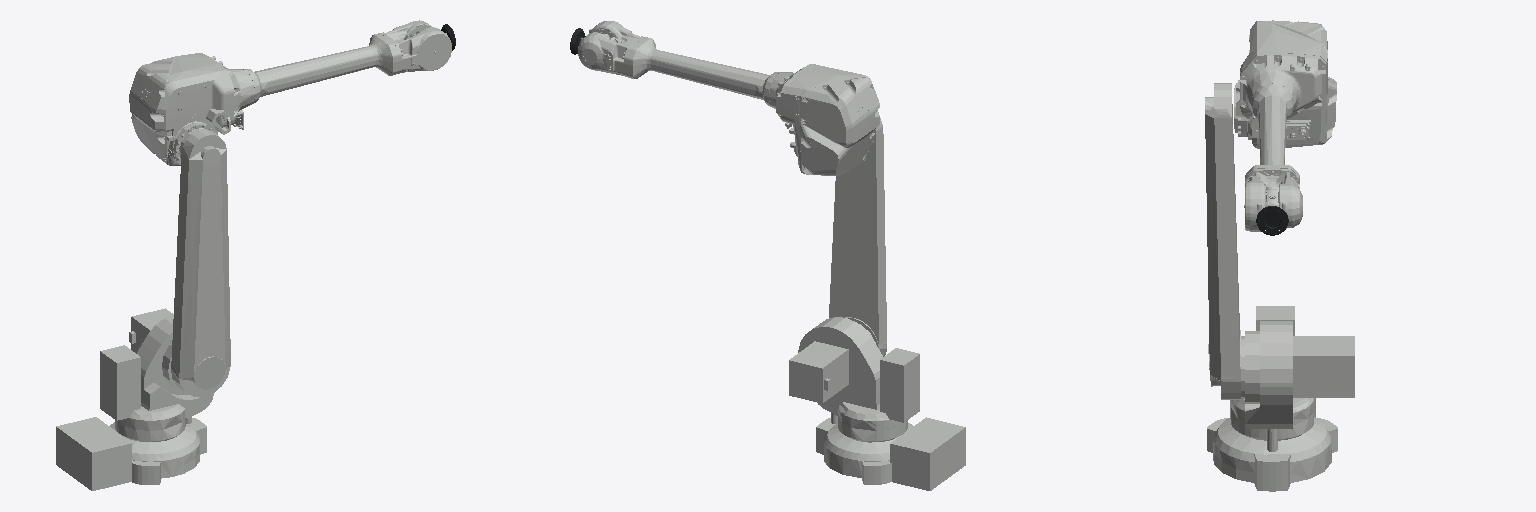
robot.urdf — abb_irb4600_40_255:
<?xml version="1.0" encoding="utf-8"?>
<robot xmlns:xacro="http://wiki.ros.org/xacro" name="abb_irb4600_40_255">
  <link name="base_link">
    <visual>
      <geometry>
        <mesh filename="package://abb_irb4600_40_255/meshes/visual/base_link.stl"/>
      </geometry>
      <material name="Material">
        <color rgba="0.772549 0.7803922 0.7686275 1.0"/>
      </material>
    </visual>
    <collision>
      <geometry>
        <mesh filename="package://abb_irb4600_40_255/meshes/collision/base_link.stl"/>
      </geometry>
    </collision>
    <inertial>
      <origin xyz="0.0 0.0 0.0" rpy="0.0 0.0 0.0"/>
      <mass value="120.0"/>
      <inertia ixx="-4.98" ixy="-0.0" ixz="2.7" iyy="-5.952" iyz="-0.0" izz="0.828"/>
    </inertial>
  </link>
  <link name="link_1">
    <visual>
      <geometry>
        <mesh filename="package://abb_irb4600_40_255/meshes/visual/link_1.stl"/>
      </geometry>
      <material name="Material">
        <color rgba="0.772549 0.7803922 0.7686275 1.0"/>
      </material>
    </visual>
    <collision>
      <geometry>
        <mesh filename="package://abb_irb4600_40_255/meshes/collision/link_1.stl"/>
      </geometry>
    </collision>
    <inertial>
      <origin xyz="0.18 0.0 0.5" rpy="0.0 0.0 0.0"/>
      <mass value="120.0"/>
      <inertia ixx="-4.98" ixy="-0.0" ixz="2.7" iyy="-5.952" iyz="-0.0" izz="0.828"/>
    </inertial>
  </link>
  <link name="link_2">
    <visual>
      <geometry>
        <mesh filename="package://abb_irb4600_40_255/meshes/visual/link_2.stl"/>
      </geometry>
      <material name="Material">
        <color rgba="0.772549 0.7803922 0.7686275 1.0"/>
      </material>
    </visual>
    <collision>
      <geometry>
        <mesh filename="package://abb_irb4600_40_255/meshes/collision/link_2.stl"/>
      </geometry>
    </collision>
    <inertial>
      <origin xyz="0.94 0.08 -0.34" rpy="0.0 0.0 0.0"/>
      <mass value="120.0"/>
      <inertia ixx="-2.96" ixy="2.256" ixz="-9.588" iyy="-18.72601" iyz="-0.816" izz="-14.95"/>
    </inertial>
  </link>
  <link name="link_3">
    <visual>
      <geometry>
        <mesh filename="package://abb_irb4600_40_255/meshes/visual/link_3.stl"/>
      </geometry>
      <material name="Material">
        <color rgba="0.772549 0.7803922 0.7686275 1.0"/>
      </material>
    </visual>
    <collision>
      <geometry>
        <mesh filename="package://abb_irb4600_40_255/meshes/collision/link_3.stl"/>
      </geometry>
    </collision>
    <inertial>
      <origin xyz="0.07 -0.266 0.088" rpy="0.0 0.0 0.0"/>
      <mass value="120.0"/>
      <inertia ixx="1.345" ixy="-0.5586" ixz="0.1848" iyy="4.65068" iyz="-0.70224" izz="2.76032"/>
    </inertial>
  </link>
  <link name="link_4">
    <visual>
      <geometry>
        <mesh filename="package://abb_irb4600_40_255/meshes/visual/link_4.stl"/>
      </geometry>
      <material name="Material">
        <color rgba="0.772549 0.7803922 0.7686275 1.0"/>
      </material>
    </visual>
    <collision>
      <geometry>
        <mesh filename="package://abb_irb4600_40_255/meshes/collision/link_4.stl"/>
      </geometry>
    </collision>
    <inertial>
      <origin xyz="0.0 0.0 1.0" rpy="0.0 0.0 0.0"/>
      <mass value="40.0"/>
      <inertia ixx="-8.0" ixy="-0.0" ixz="-0.0" iyy="-8.0" iyz="-0.0" izz="0.482"/>
    </inertial>
  </link>
  <link name="link_5">
    <visual>
      <geometry>
        <mesh filename="package://abb_irb4600_40_255/meshes/visual/link_5.stl"/>
      </geometry>
      <material name="Material">
        <color rgba="0.772549 0.7803922 0.7686275 1.0"/>
      </material>
    </visual>
    <collision>
      <geometry>
        <mesh filename="package://abb_irb4600_40_255/meshes/collision/link_5.stl"/>
      </geometry>
    </collision>
    <inertial>
      <origin xyz="0.14 0.0 0.0" rpy="0.0 0.0 0.0"/>
      <mass value="10.0"/>
      <inertia ixx="0.04" ixy="-0.0" ixz="-0.0" iyy="-0.009" iyz="-0.0" izz="-0.004"/>
    </inertial>
  </link>
  <link name="link_6">
    <visual>
      <geometry>
        <mesh filename="package://abb_irb4600_40_255/meshes/visual/link_6.stl"/>
      </geometry>
      <material name="Material">
        <color rgba="0.1882353 0.1960784 0.2039216 1.0"/>
      </material>
    </visual>
    <collision>
      <geometry>
        <mesh filename="package://abb_irb4600_40_255/meshes/collision/link_6.stl"/>
      </geometry>
    </collision>
    <inertial>
      <origin xyz="0.081 -0.091 0.332" rpy="0.0 0.0 0.0"/>
      <mass value="5.0"/>
      <inertia ixx="-0.29652" ixy="-0.03686" ixz="0.09396" iyy="-0.28792" iyz="-0.10556" izz="-0.04621"/>
    </inertial>
  </link>
  <link name="tool0"/>
  <link name="base"/>
  <joint name="joint_1" type="revolute">
    <parent link="base_link"/>
    <child link="link_1"/>
    <axis xyz="0.0 0.0 1.0"/>
    <dynamics damping="0.2" friction="0.0"/>
    <limit lower="-3.14159" upper="3.14159" effort="100000.0" velocity="2.618"/>
    <origin xyz="0.0 0.0 0.0" rpy="0.0 0.0 0.0"/>
  </joint>
  <joint name="joint_2" type="revolute">
    <parent link="link_1"/>
    <child link="link_2"/>
    <axis xyz="0.0 1.0 0.0"/>
    <dynamics damping="0.2" friction="0.0"/>
    <limit lower="-1.5708" upper="2.61799" effort="100000.0" velocity="2.618"/>
    <origin xyz="0.175 0.0 0.495" rpy="0.0 -0.0 0.0"/>
  </joint>
  <joint name="joint_3" type="revolute">
    <parent link="link_2"/>
    <child link="link_3"/>
    <axis xyz="0.0 1.0 0.0"/>
    <dynamics damping="0.2" friction="0.0"/>
    <limit lower="-3.14159" upper="1.309" effort="100000.0" velocity="2.618"/>
    <origin xyz="0.0 0.0 1.095" rpy="0.0 -0.0 0.0"/>
  </joint>
  <joint name="joint_4" type="revolute">
    <parent link="link_3"/>
    <child link="link_4"/>
    <axis xyz="1.0 0.0 0.0"/>
    <dynamics damping="0.2" friction="0.0"/>
    <limit lower="-6.98132" upper="6.98132" effort="10000.0" velocity="6.2832"/>
    <origin xyz="0.331 0.0 0.175" rpy="0.0 -0.0 0.0"/>
  </joint>
  <joint name="joint_5" type="revolute">
    <parent link="link_4"/>
    <child link="link_5"/>
    <axis xyz="0.0 1.0 0.0"/>
    <dynamics damping="0.2" friction="0.0"/>
    <limit lower="-2.18166" upper="2.0944" effort="100000.0" velocity="6.2832"/>
    <origin xyz="0.939 0.0 0.0" rpy="0.0 -0.0 0.0"/>
  </joint>
  <joint name="joint_6" type="revolute">
    <parent link="link_5"/>
    <child link="link_6"/>
    <axis xyz="0.0 0.0 1.0"/>
    <dynamics damping="0.2" friction="0.0"/>
    <limit lower="-6.98132" upper="6.98132" effort="100000.0" velocity="7.854"/>
    <origin xyz="0.135 0.0 0.0" rpy="0.0 1.57076 0.0"/>
  </joint>
  <joint name="joint_6-tool0" type="fixed">
    <parent link="link_6"/>
    <child link="tool0"/>
    <axis xyz="1.0 0.0 0.0"/>
    <origin xyz="0.0 0.0 0.0" rpy="0.0 0.0 0.0"/>
  </joint>
  <joint name="base_link-base" type="fixed">
    <parent link="base_link"/>
    <child link="base"/>
    <axis xyz="1.0 0.0 0.0"/>
    <origin xyz="0.0 0.0 0.0" rpy="0.0 0.0 0.0"/>
  </joint>
</robot>

--- Render facts (derived) ---
Views: 3 orthographic renders of the robot side by side, from view 1: azimuth 30°, elevation 25°; view 2: azimuth 150°, elevation 25°; view 3: azimuth 270°, elevation 25°.
Robot: abb_irb4600_40_255 — 9 links, 8 joints (6 revolute, 2 fixed); root link base_link; default pose: all joints at 0.
Links seen in each view (by area): view 1: link_2, link_3, link_1, base_link, link_4; view 2: link_1, link_3, link_2, base_link, link_4; view 3: link_1, link_2, link_3, base_link, link_4, link_6.
Boxes of the visible links, x1,y1,x2,y2 form: link_2: [171, 129, 230, 396]; link_3: [129, 53, 254, 165]; link_1: [100, 308, 213, 441]; base_link: [56, 417, 206, 490]; link_4: [243, 20, 451, 104]; link_1: [789, 317, 919, 442]; link_3: [769, 64, 879, 175]; link_2: [829, 111, 886, 356]; base_link: [816, 417, 965, 490]; link_4: [578, 21, 781, 107]; link_1: [1231, 306, 1354, 451]; link_2: [1205, 83, 1240, 399]; link_3: [1234, 20, 1336, 148]; base_link: [1207, 398, 1337, 491]; link_4: [1244, 84, 1302, 231]; link_6: [1256, 206, 1288, 235].
Bounding box of the posed robot: 1.98 × 0.5808 × 1.92 m (x, y, z).
7 mesh visuals loaded from 7 distinct referenced files (7 binary STL).